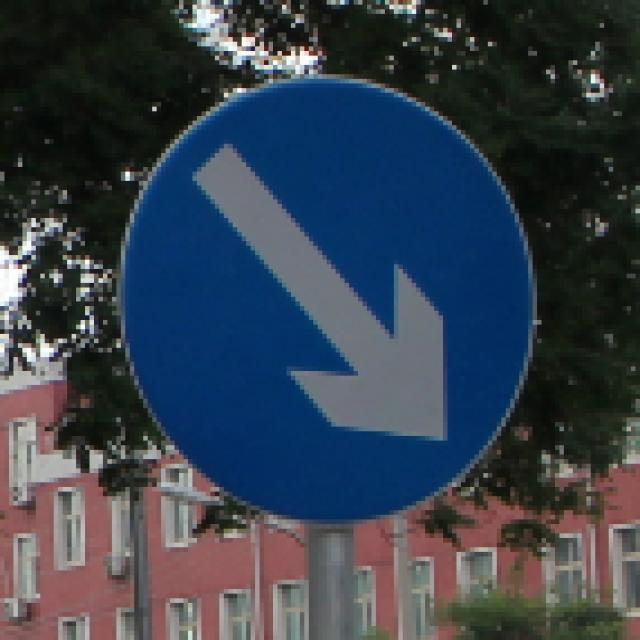Right: (110, 69, 558, 515)
